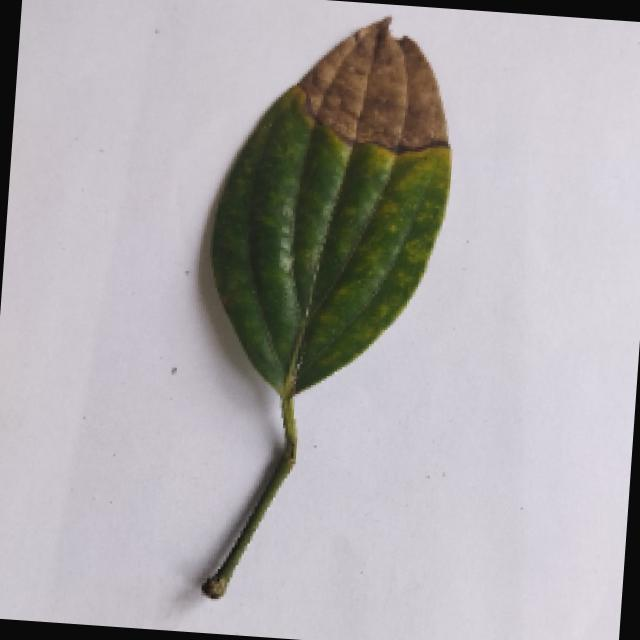footrot: (170, 0, 461, 612)
